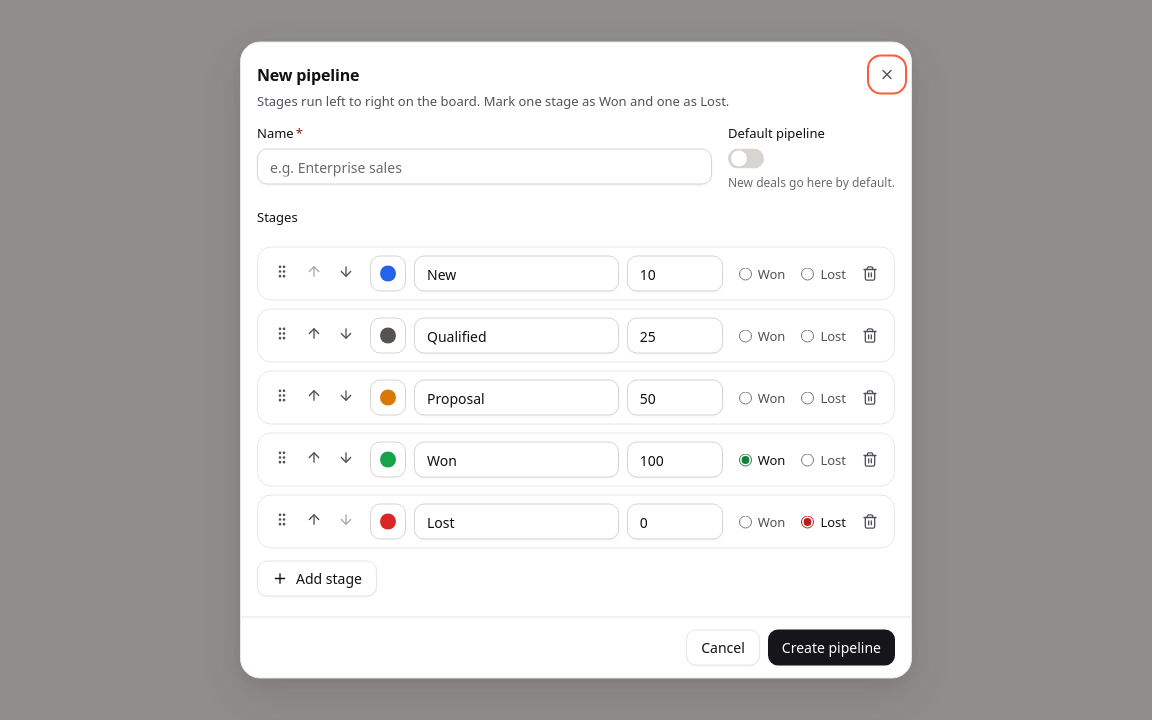
Test case: PipelineEditorDialog › shows the list-level error and does not submit without a Won stage
Type "Partners" into the field labelled "Name*" at (484, 166), box [257,148,712,184]
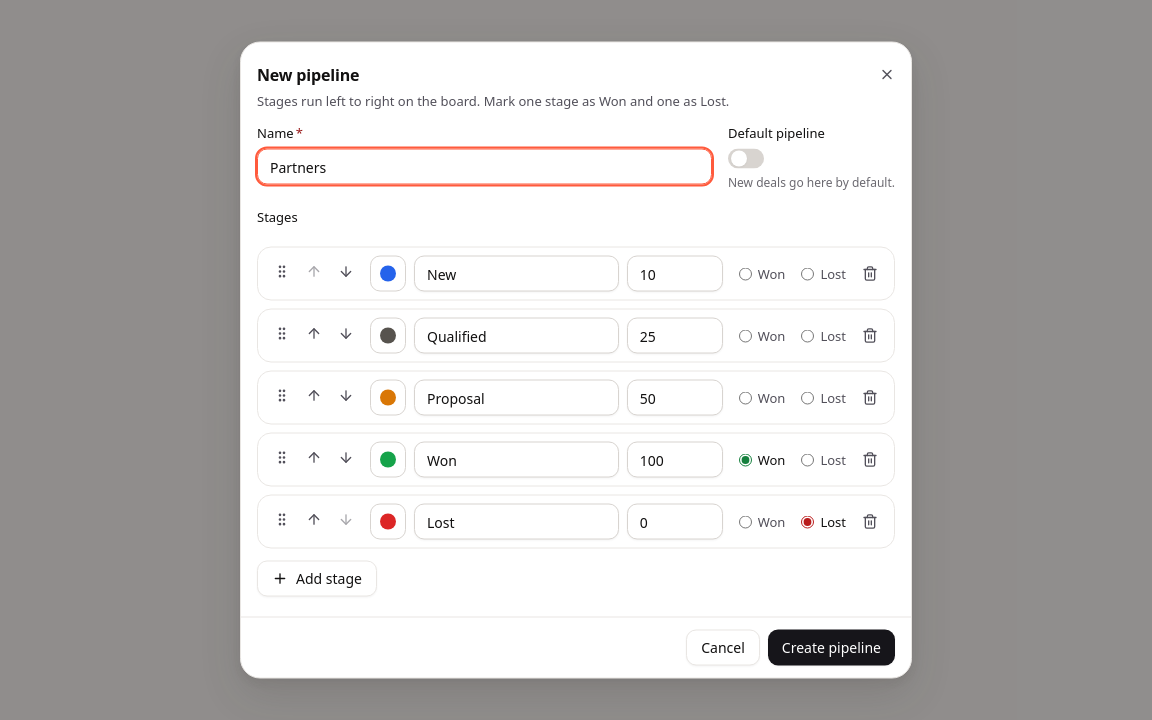
Click the button named "Remove stage Won" at (870, 460), box [854,444,886,476]
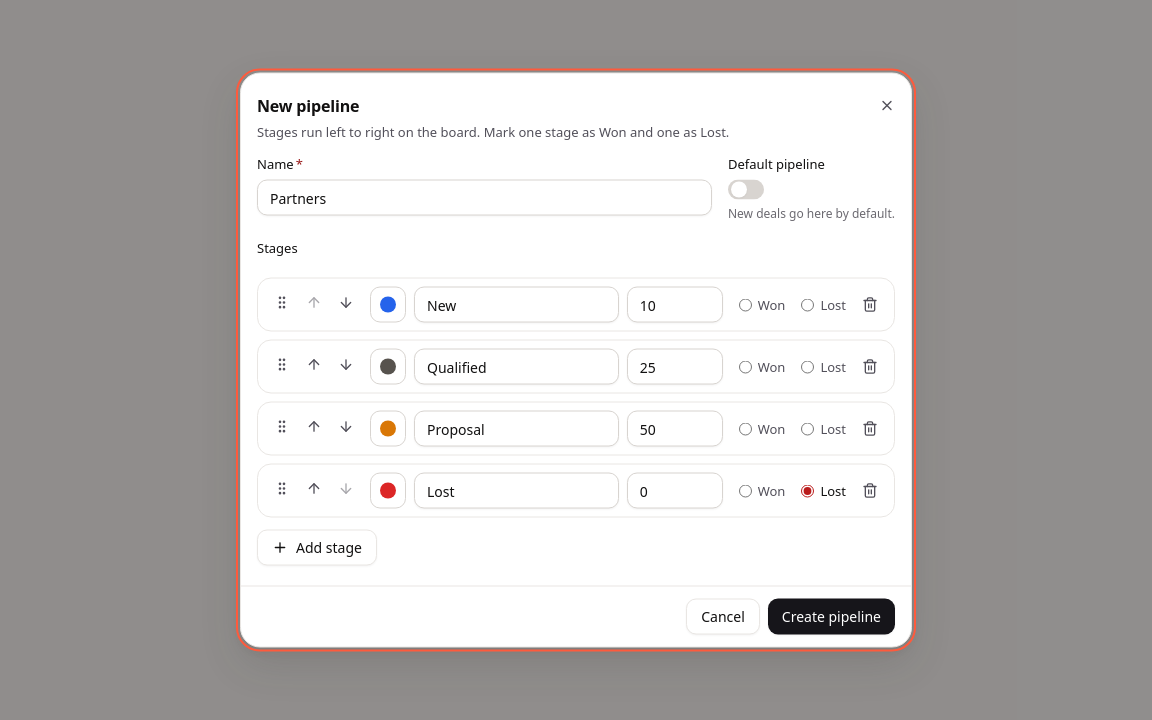
Click the button "Create pipeline" at (831, 616), box [768,598,895,634]
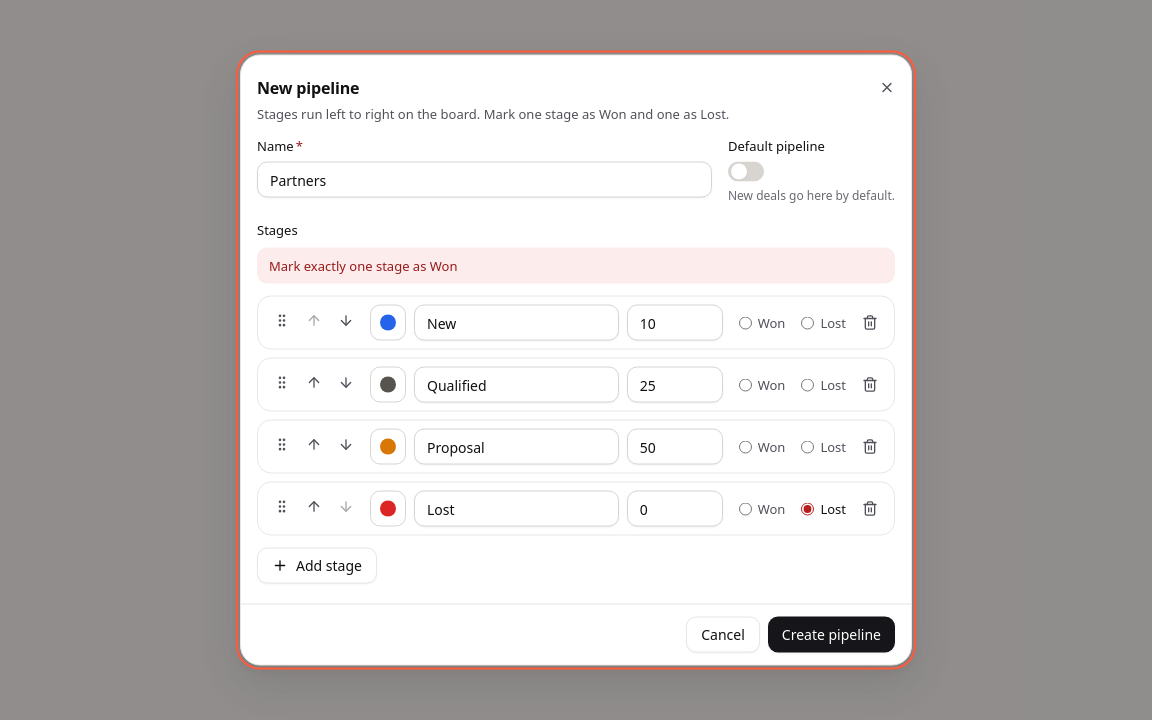
Now the text "Mark exactly one stage as Won" is shown, box [257,248,895,284]
